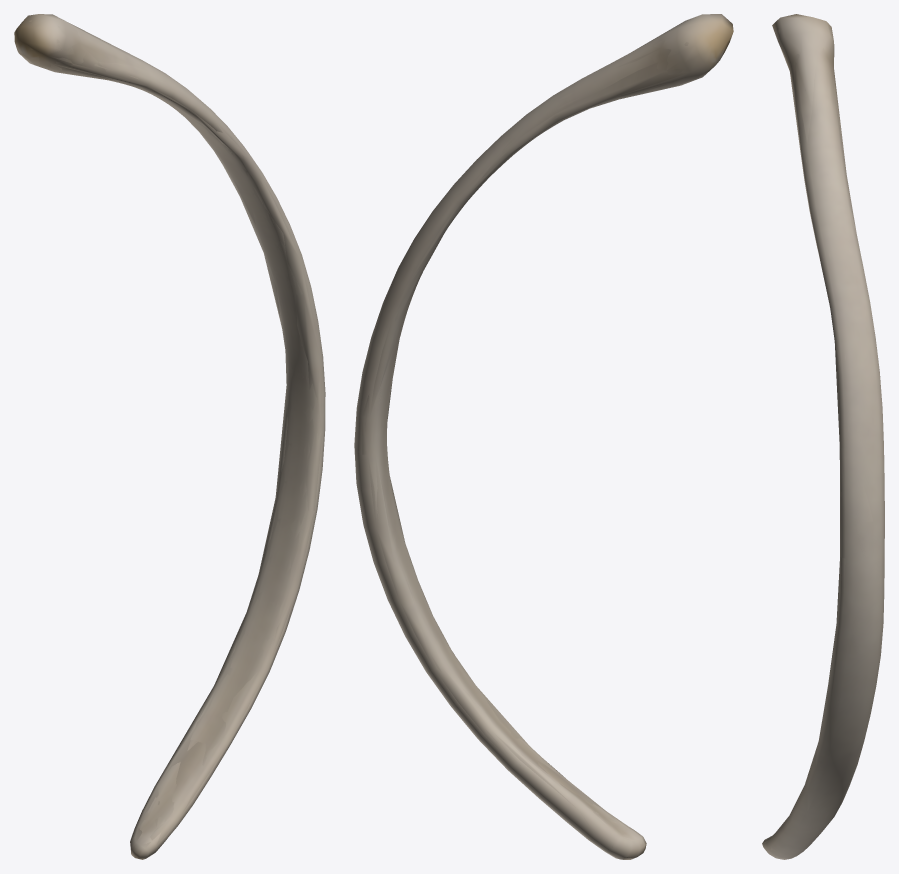
The model's file is Rib L08.fbx.
The picture shows the model from 3 angles, left to right: view 1: azimuth 30°, elevation 25°; view 2: azimuth 150°, elevation 25°; view 3: azimuth 270°, elevation 25°; orthographic projection. The views are drawn at different scales.
Parts seen in each view (by area): view 1: Rib L08, Rib L08 high, Rib L08 low; view 2: Rib L08, Rib L08 low, Rib L08 high; view 3: Rib L08, Rib L08 low, Rib L08 high.
Part boxes in pixels (x1=…): Rib L08: x1=14, y1=14, x2=325, y2=859; Rib L08 high: x1=18, y1=20, x2=322, y2=853; Rib L08 low: x1=15, y1=15, x2=325, y2=853; Rib L08: x1=354, y1=14, x2=733, y2=859; Rib L08 low: x1=355, y1=14, x2=732, y2=859; Rib L08 high: x1=362, y1=23, x2=728, y2=858; Rib L08: x1=762, y1=14, x2=884, y2=859; Rib L08 low: x1=763, y1=14, x2=884, y2=851; Rib L08 high: x1=772, y1=26, x2=882, y2=856.
Size of the model in its own units: 7.32 by 18.14 by 2.52.
Materials: 1 (1 with a texture image).
